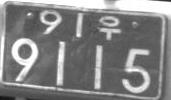1: (48, 41, 76, 86), (86, 45, 113, 89), (68, 12, 89, 37)
5: (121, 47, 150, 94)
9: (10, 37, 39, 81), (39, 8, 62, 35)
우: (97, 14, 121, 40)
